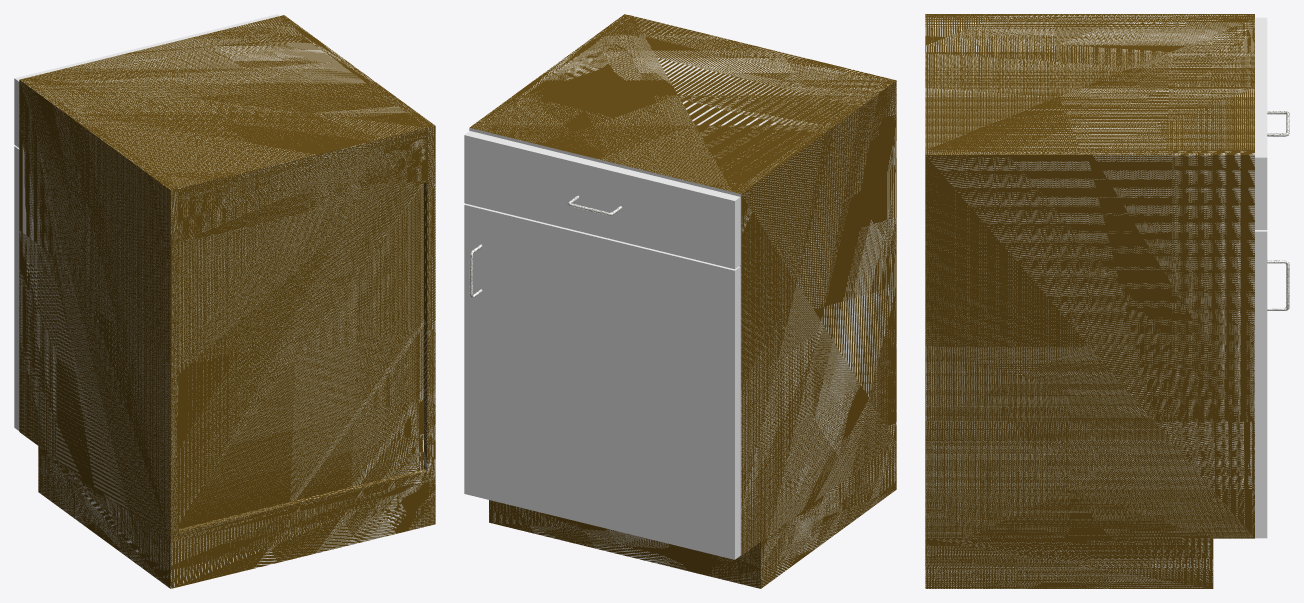
3 renders of one model, left to right at view 1: azimuth 30°, elevation 25°; view 2: azimuth 150°, elevation 25°; view 3: azimuth 270°, elevation 25°, orthographic. The views are drawn at different scales.
Visible parts, largest first — view 1: mesh12_mesh12-geometry, mesh7_mesh7-geometry, mesh4_mesh4-geometry, mesh16_mesh16-geometry, mesh13_mesh13-geometry, mesh10_mesh10-geometry, mesh8_mesh8-geometry, mesh2_mesh2-geometry, mesh27_mesh27-geometry, mesh19_mesh19-geometry; view 2: mesh27_mesh27-geometry, mesh7_mesh7-geometry, mesh4_mesh4-geometry, mesh19_mesh19-geometry, mesh16_mesh16-geometry, mesh8_mesh8-geometry, mesh10_mesh10-geometry; view 3: mesh9_mesh9-geometry, mesh4_mesh4-geometry, mesh16_mesh16-geometry, mesh27_mesh27-geometry, mesh19_mesh19-geometry, mesh8_mesh8-geometry, mesh10_mesh10-geometry.
Boxes of the visible parts, x1=… form: mesh12_mesh12-geometry: x1=179, y1=183, x2=423, y2=528; mesh7_mesh7-geometry: x1=19, y1=80, x2=170, y2=542; mesh4_mesh4-geometry: x1=28, y1=17, x2=427, y2=196; mesh16_mesh16-geometry: x1=38, y1=446, x2=435, y2=588; mesh13_mesh13-geometry: x1=179, y1=136, x2=427, y2=243; mesh10_mesh10-geometry: x1=276, y1=15, x2=435, y2=479; mesh8_mesh8-geometry: x1=20, y1=77, x2=178, y2=542; mesh2_mesh2-geometry: x1=179, y1=469, x2=427, y2=540; mesh27_mesh27-geometry: x1=14, y1=146, x2=19, y2=430; mesh19_mesh19-geometry: x1=14, y1=14, x2=279, y2=147; mesh27_mesh27-geometry: x1=464, y1=204, x2=740, y2=559; mesh7_mesh7-geometry: x1=741, y1=80, x2=896, y2=555; mesh4_mesh4-geometry: x1=477, y1=16, x2=887, y2=194; mesh19_mesh19-geometry: x1=464, y1=131, x2=740, y2=269; mesh16_mesh16-geometry: x1=489, y1=442, x2=896, y2=588; mesh8_mesh8-geometry: x1=732, y1=78, x2=896, y2=555; mesh10_mesh10-geometry: x1=469, y1=14, x2=632, y2=132; mesh9_mesh9-geometry: x1=925, y1=155, x2=1254, y2=538; mesh4_mesh4-geometry: x1=925, y1=18, x2=1254, y2=150; mesh16_mesh16-geometry: x1=925, y1=538, x2=1213, y2=588; mesh27_mesh27-geometry: x1=1255, y1=230, x2=1267, y2=538; mesh19_mesh19-geometry: x1=1255, y1=17, x2=1267, y2=229; mesh8_mesh8-geometry: x1=925, y1=14, x2=1254, y2=18; mesh10_mesh10-geometry: x1=925, y1=150, x2=1254, y2=154.
Size of the model in its own units: 0.4843 by 0.6962 by 0.5298.
